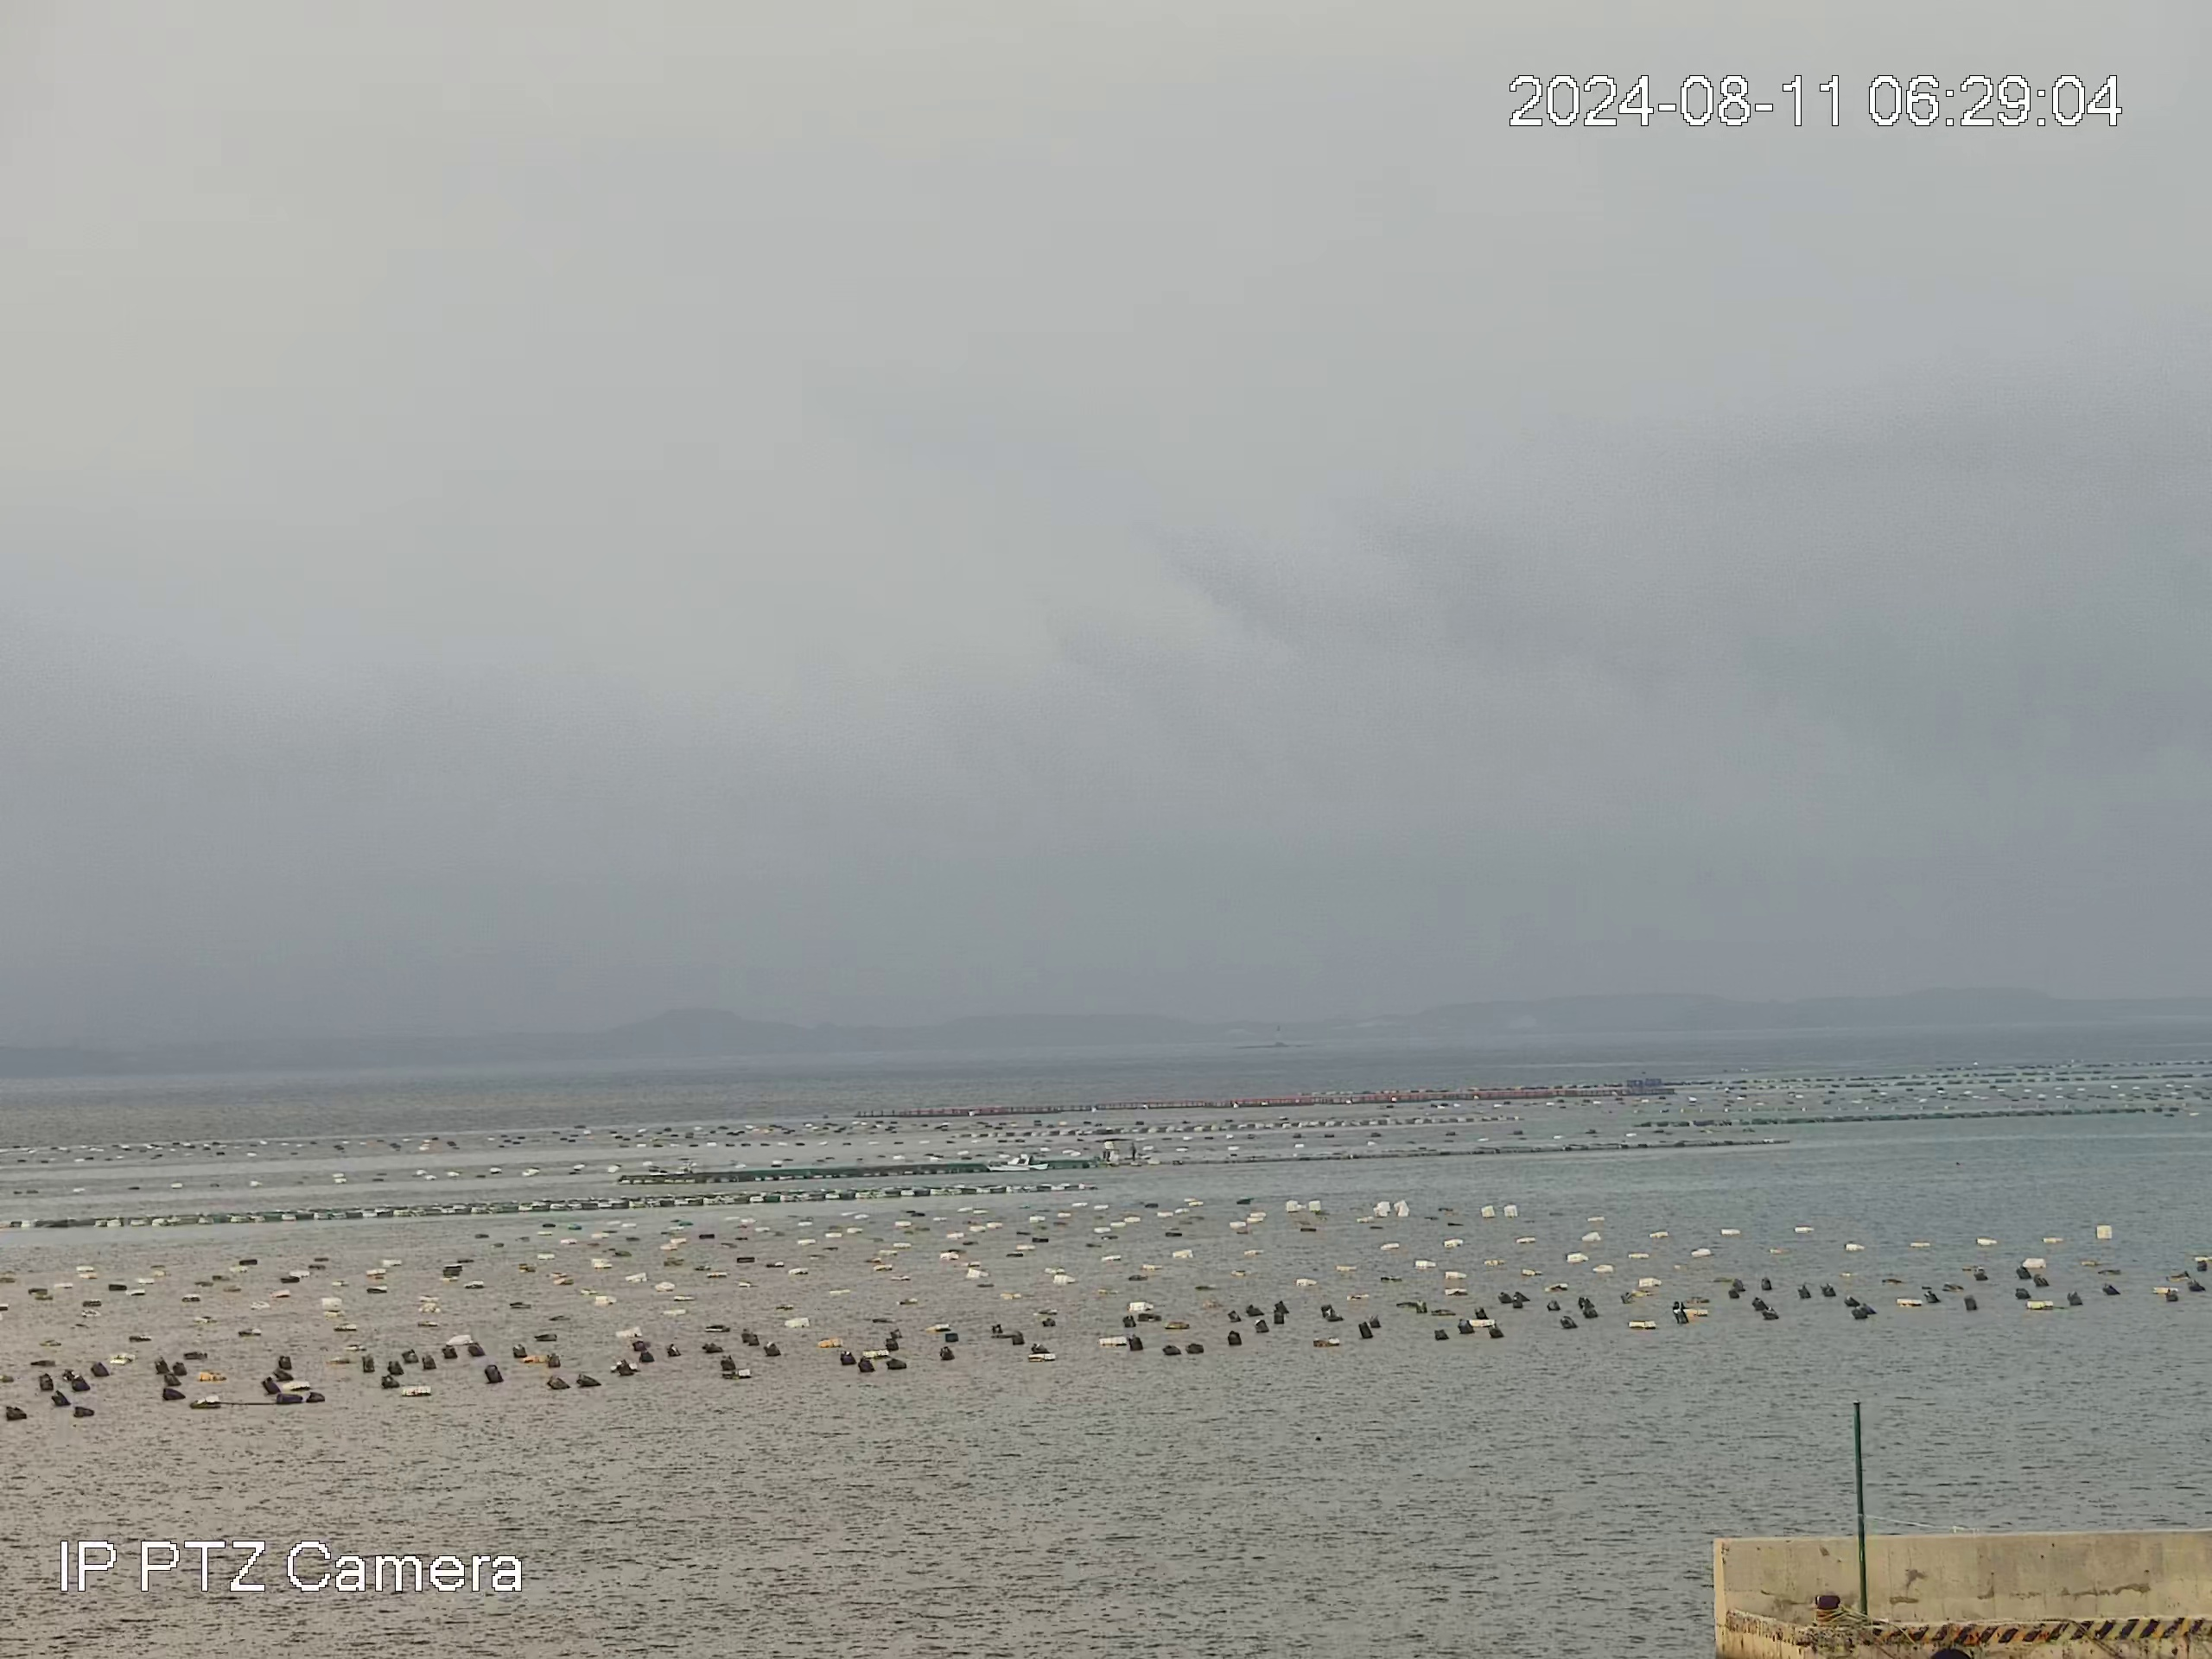boat: (984, 1152, 1050, 1173)
